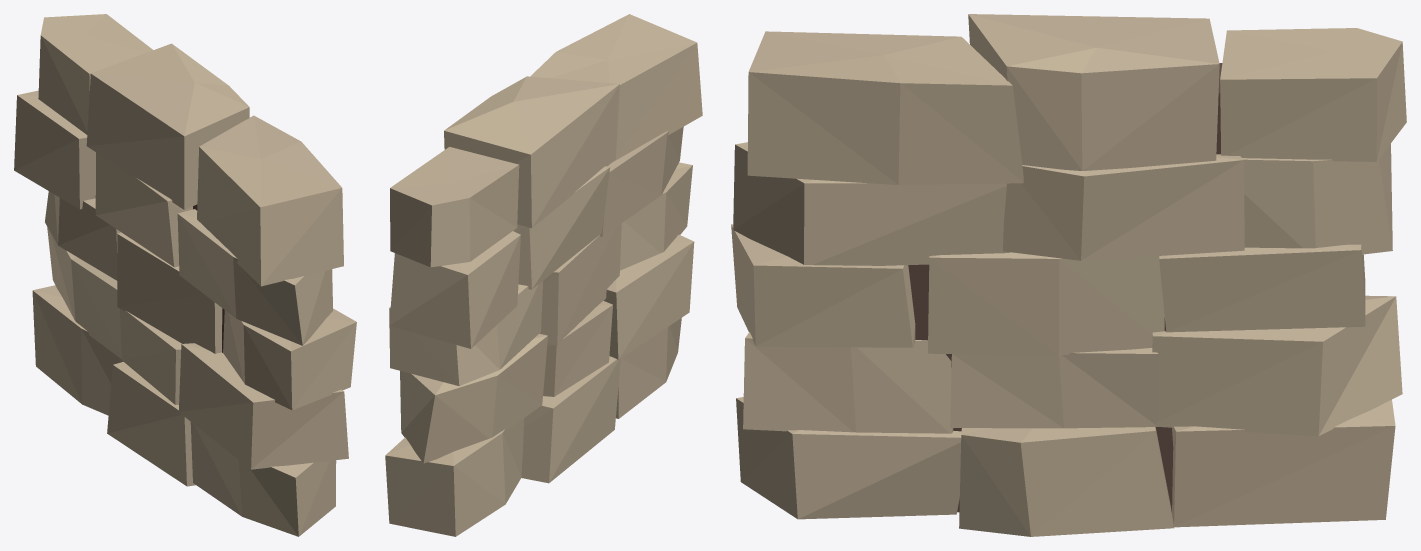
The model's file is LightSandStoneWallSmallBrick2.fbx.
The picture shows the model from 3 angles, left to right: view 1: azimuth 30°, elevation 25°; view 2: azimuth 150°, elevation 25°; view 3: azimuth 270°, elevation 25°; orthographic projection. The views are drawn at different scales.
Visible parts, largest first — view 1: LightSandStoneWallSmallBrick2; view 2: LightSandStoneWallSmallBrick2; view 3: LightSandStoneWallSmallBrick2.
Boxes of the visible parts, x1,y1,x2,y2 form: LightSandStoneWallSmallBrick2: (14, 14, 356, 536); LightSandStoneWallSmallBrick2: (385, 14, 702, 536); LightSandStoneWallSmallBrick2: (731, 14, 1406, 536).
Size of the model in its own units: 75.22 by 234 by 305.
